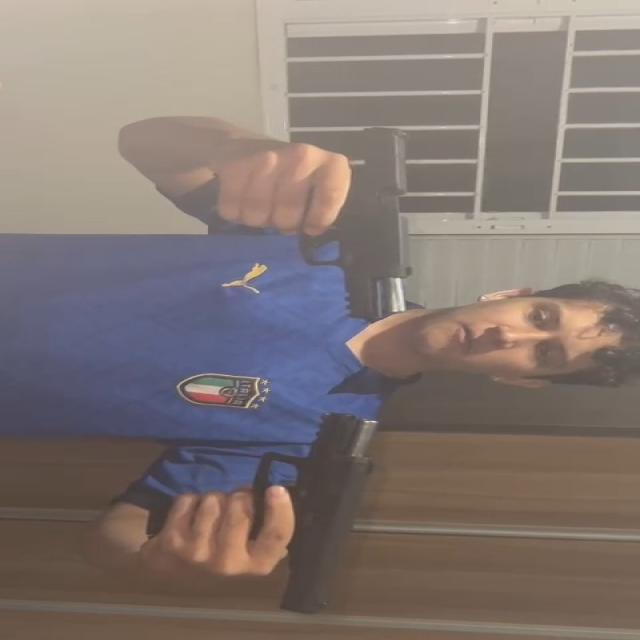gun: (232, 407, 382, 617), (290, 126, 410, 324)
